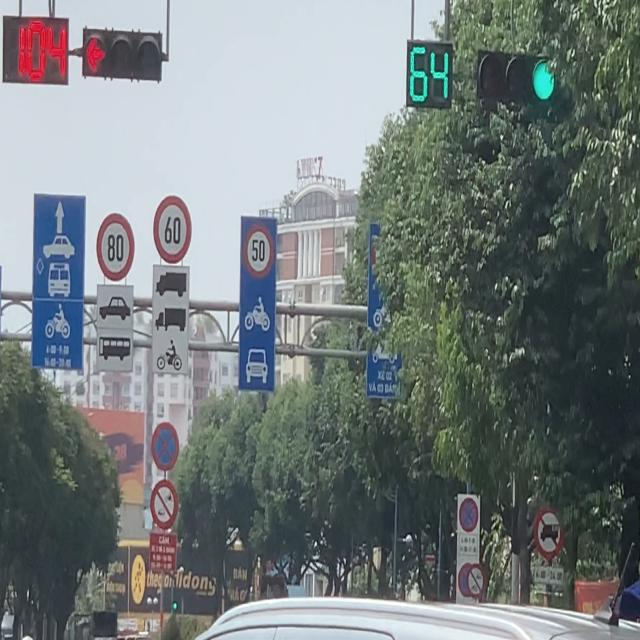Cam con lai: (534, 505, 562, 558)
Cam dung va do: (149, 419, 180, 473), (457, 495, 480, 536)
Toc do toi da: (150, 191, 192, 261), (92, 217, 136, 280), (242, 219, 276, 280)
